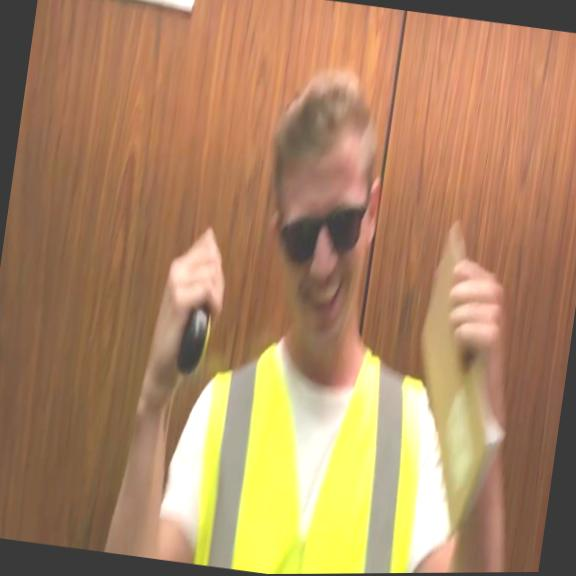safety_vest: (187, 319, 436, 575)
